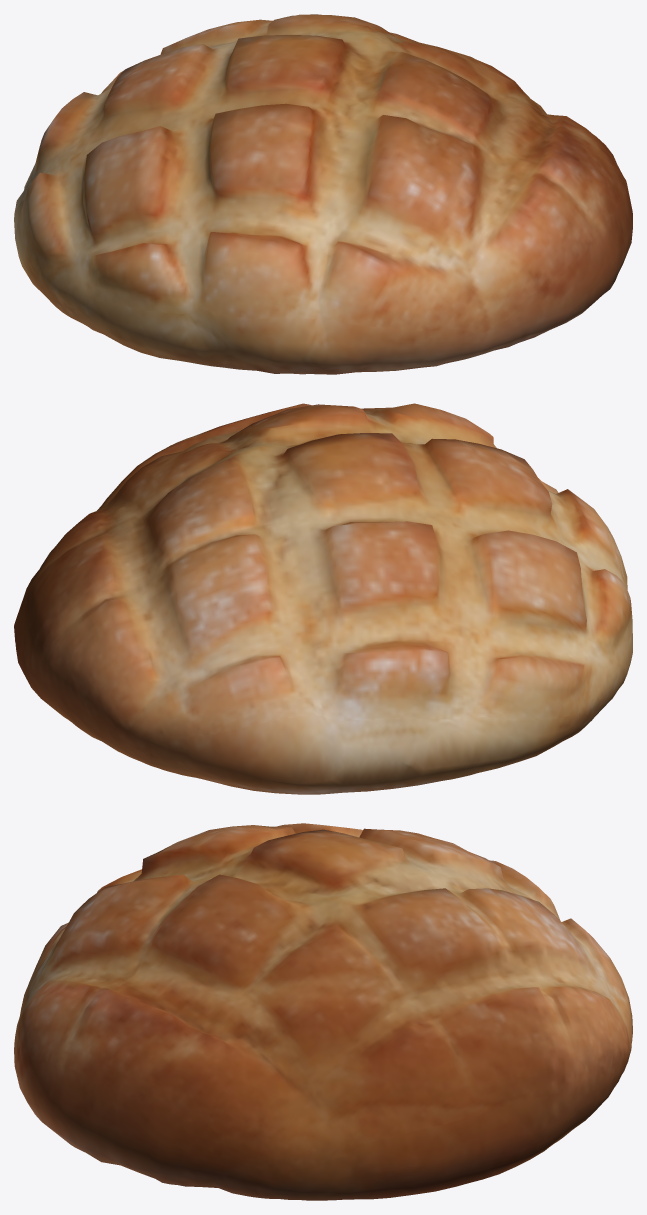
File: bread-roll--game-ready---2k-pbr-3aa235.glb
3 views of the same model, one above another, from view 1: azimuth 30°, elevation 25°; view 2: azimuth 150°, elevation 25°; view 3: azimuth 270°, elevation 25° (orthographic). The views are drawn at different scales.
Parts seen in each view (by area): view 1: PropMesh; view 2: PropMesh; view 3: PropMesh.
Part boxes in pixels (x1=…): PropMesh: x1=14, y1=14, x2=632, y2=374; PropMesh: x1=14, y1=403, x2=632, y2=794; PropMesh: x1=14, y1=823, x2=632, y2=1200.
Bounding box in the file's own units: 0.3458 × 0.1483 × 0.35.
1 material, 1 textured.
